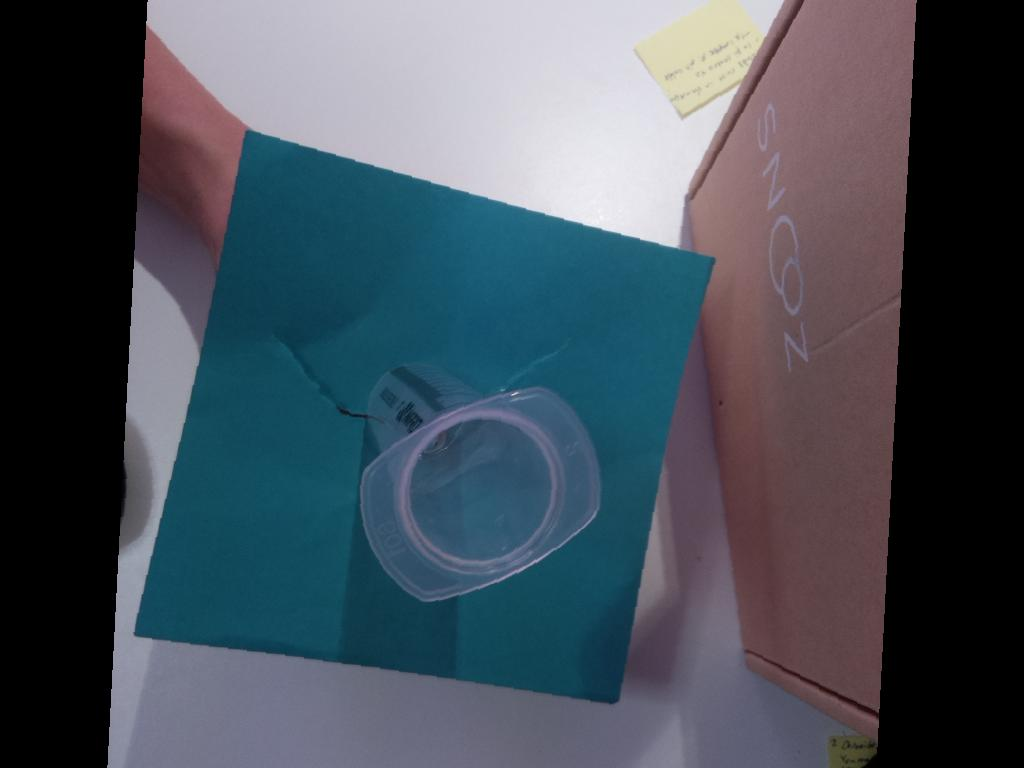clean: (359, 384, 603, 603)
